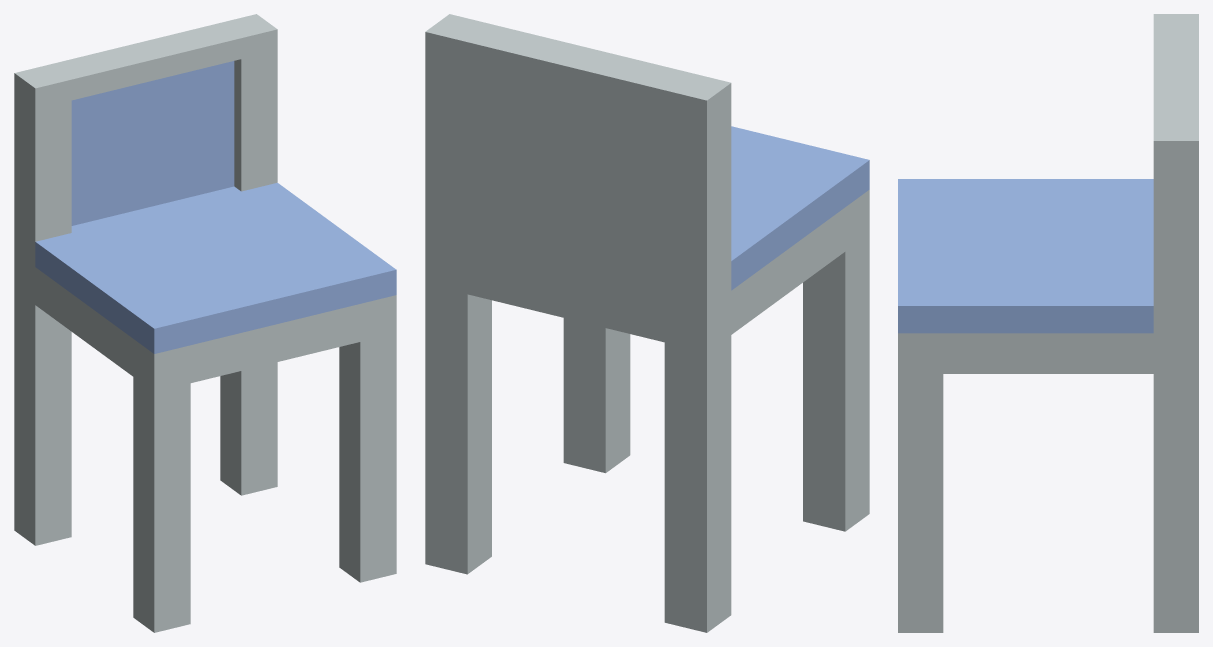
File: chairModernCushion_low_back.glb
3 renders of one model, left to right at view 1: azimuth 30°, elevation 25°; view 2: azimuth 150°, elevation 25°; view 3: azimuth 270°, elevation 25°, orthographic. The views are drawn at different scales.
Visible parts, largest first — view 1: chairModernCushion(Clone); view 2: chairModernCushion(Clone); view 3: chairModernCushion(Clone).
Part boxes in pixels (x1,y1,x2,y2): chairModernCushion(Clone): (14,14,396,632); chairModernCushion(Clone): (425,14,869,632); chairModernCushion(Clone): (898,14,1198,632).
Size of the model in its own units: 0.2 by 0.361 by 0.2.
